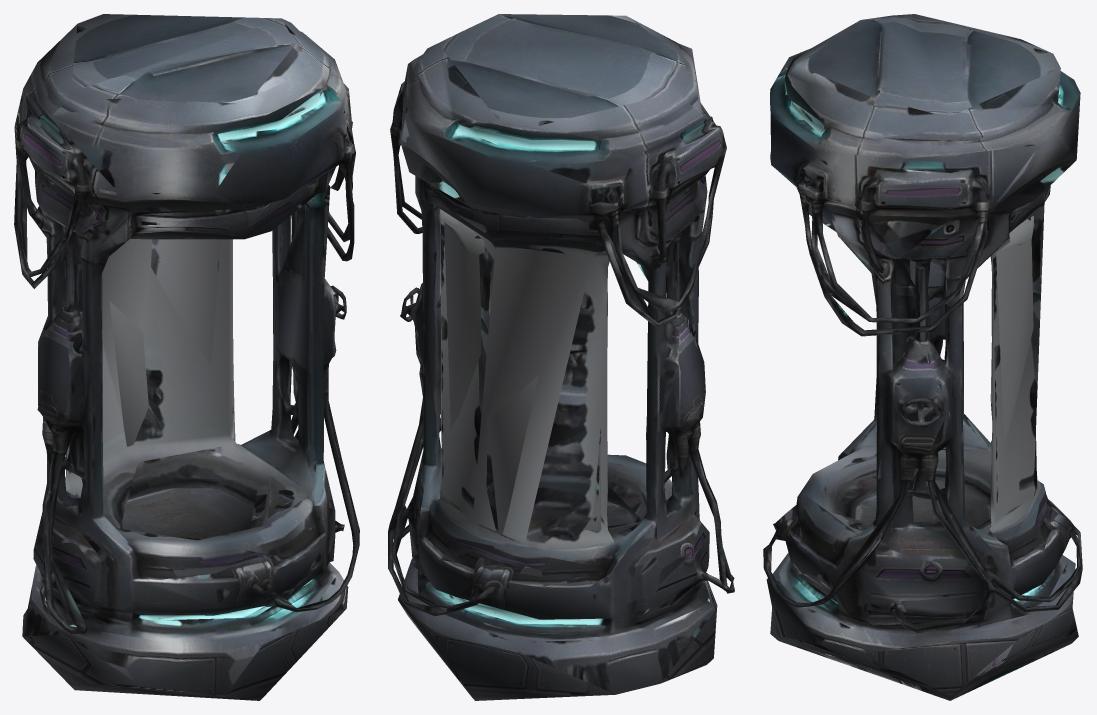
File: capsule_confinement.glb
3 views of the same model, side by side, from view 1: azimuth 30°, elevation 25°; view 2: azimuth 150°, elevation 25°; view 3: azimuth 270°, elevation 25° (orthographic). The views are drawn at different scales.
Visible parts, largest first — view 1: tripo_node_46c0ed1e-ab0b-446e-9295-9782a68f3692; view 2: tripo_node_46c0ed1e-ab0b-446e-9295-9782a68f3692; view 3: tripo_node_46c0ed1e-ab0b-446e-9295-9782a68f3692.
Part boxes in pixels (<box>): tripo_node_46c0ed1e-ab0b-446e-9295-9782a68f3692: <box>14,14,359,700</box>; tripo_node_46c0ed1e-ab0b-446e-9295-9782a68f3692: <box>388,14,734,700</box>; tripo_node_46c0ed1e-ab0b-446e-9295-9782a68f3692: <box>763,14,1082,700</box>.
Bounding box in the file's own units: 0.5289 × 0.9959 × 0.4891.
1 material, 1 textured.
